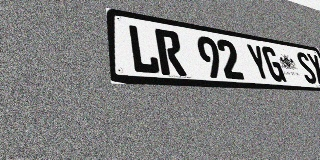2: (215, 38, 244, 80)
9: (195, 35, 225, 78)
G: (260, 46, 287, 82)
L: (127, 24, 161, 75)
R: (154, 28, 187, 76)
S: (294, 51, 319, 84)
X: (306, 53, 320, 85)
Y: (245, 43, 272, 81)
